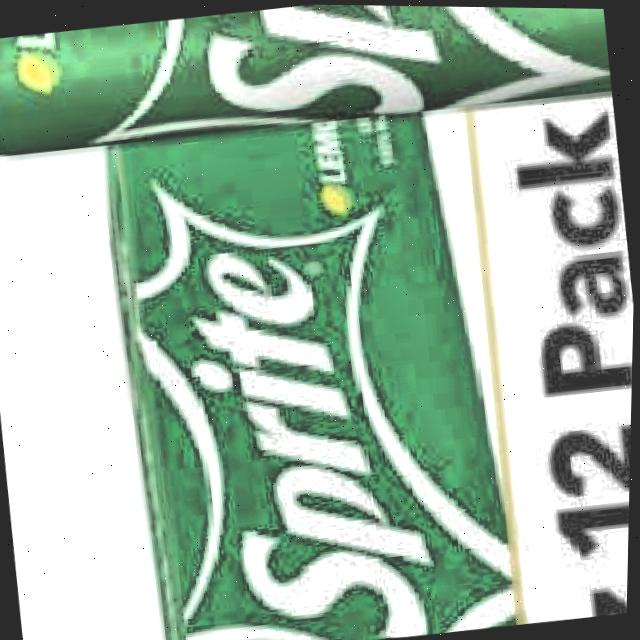metal: (0, 0, 613, 171)
